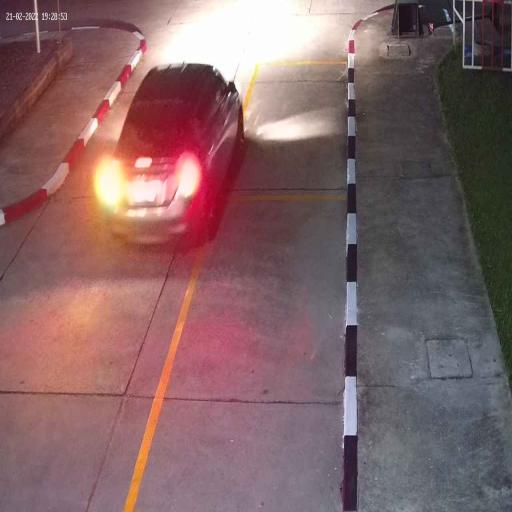car: (98, 62, 246, 245)
